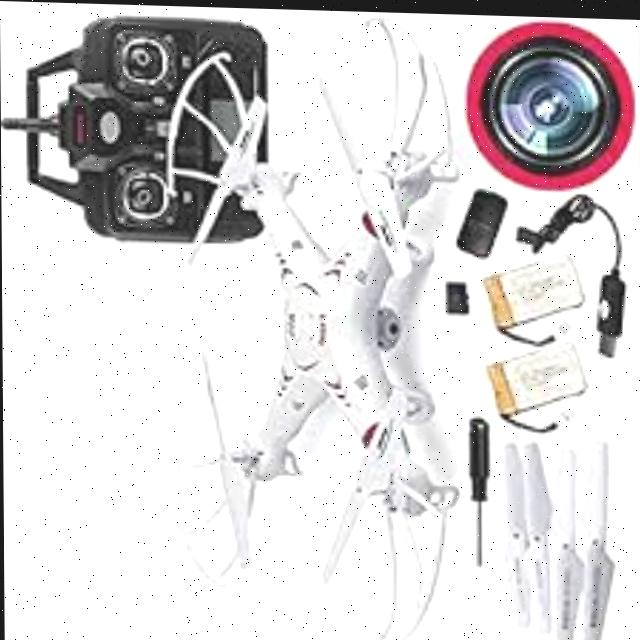drone: (160, 28, 484, 623)
